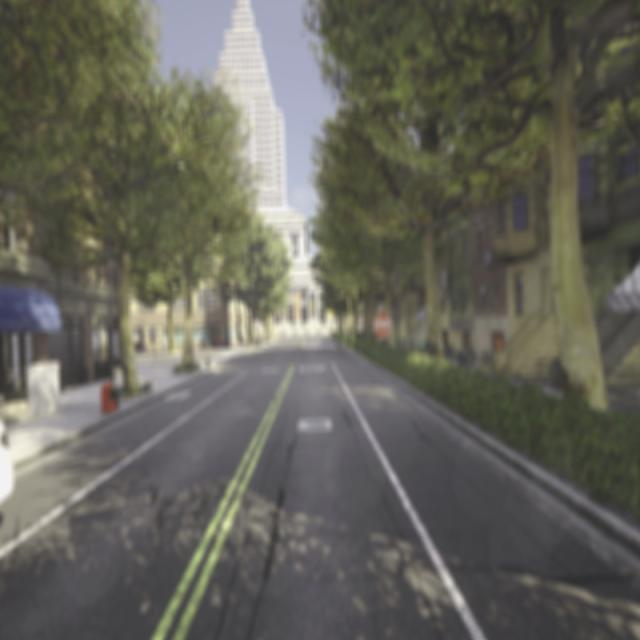stop sign: (370, 305, 393, 340)
